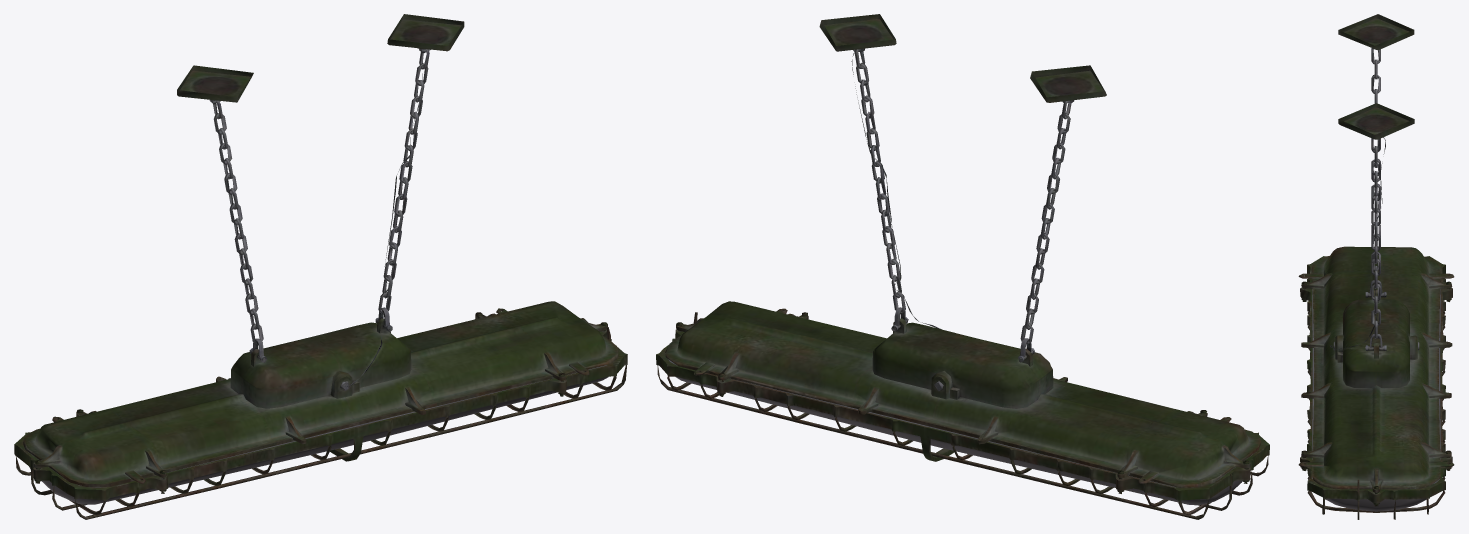
Rendered from caged_hanging_light.glb.
The picture shows the model from 3 angles, left to right: view 1: azimuth 30°, elevation 25°; view 2: azimuth 150°, elevation 25°; view 3: azimuth 270°, elevation 25°; orthographic projection. The views are drawn at different scales.
Parts seen in each view (by area): view 1: caged_hanging_light; view 2: caged_hanging_light; view 3: caged_hanging_light.
Part boxes in pixels (x1,y1,x2,y2): caged_hanging_light: (14, 14, 627, 519); caged_hanging_light: (656, 14, 1269, 519); caged_hanging_light: (1298, 14, 1454, 519).
Size of the model in its own units: 1.16 by 0.7501 by 0.3149.
1 material, 1 textured.
